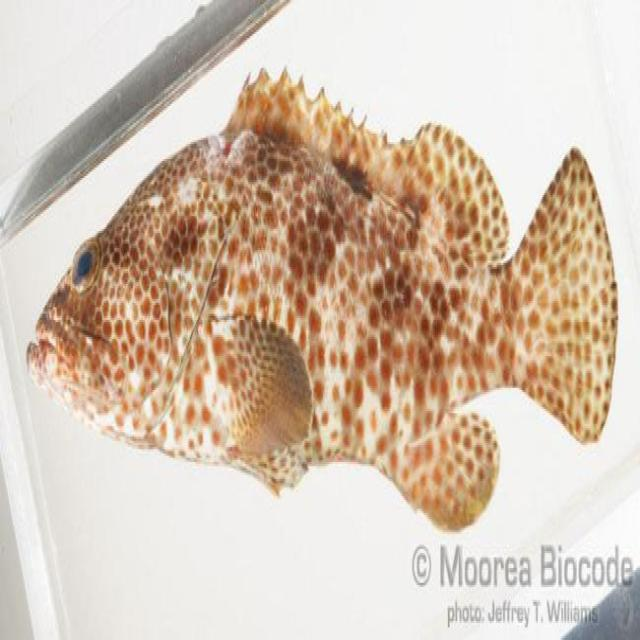ikan: (26, 61, 618, 532)
